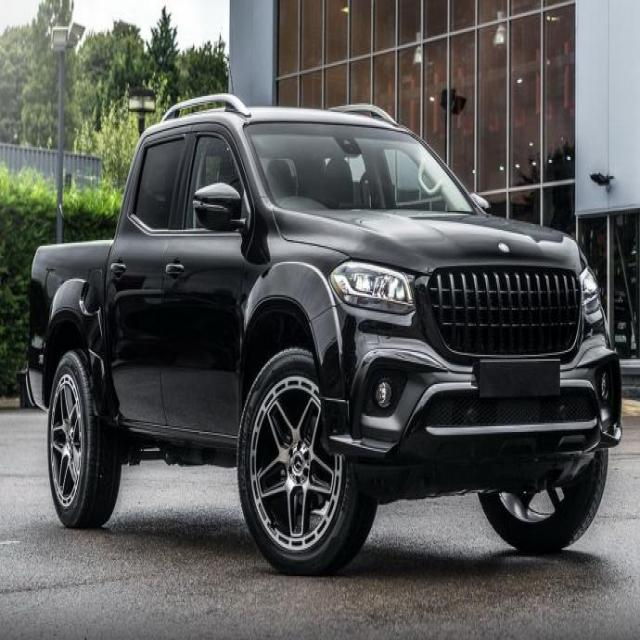back_right_door: (106, 124, 193, 430)
front_bumper: (309, 266, 624, 506)
front_glass: (243, 121, 482, 213)
front_left_light: (580, 263, 606, 316)
front_right_door: (158, 122, 253, 435)
front_right_light: (327, 261, 416, 316)
hood: (271, 202, 589, 279)
right_mirror: (192, 180, 244, 233)
trunk: (25, 240, 118, 426)
wheel: (47, 345, 380, 575)
